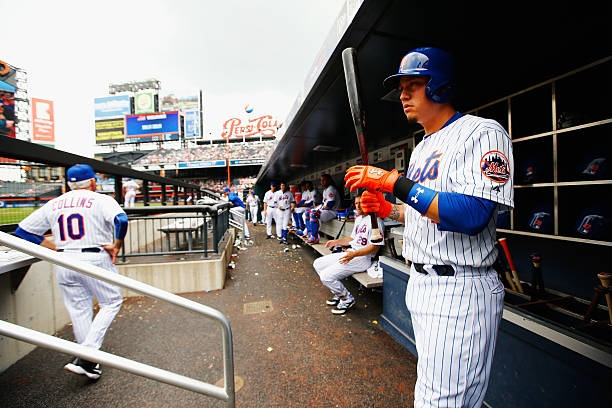bita: (340, 44, 383, 243)
